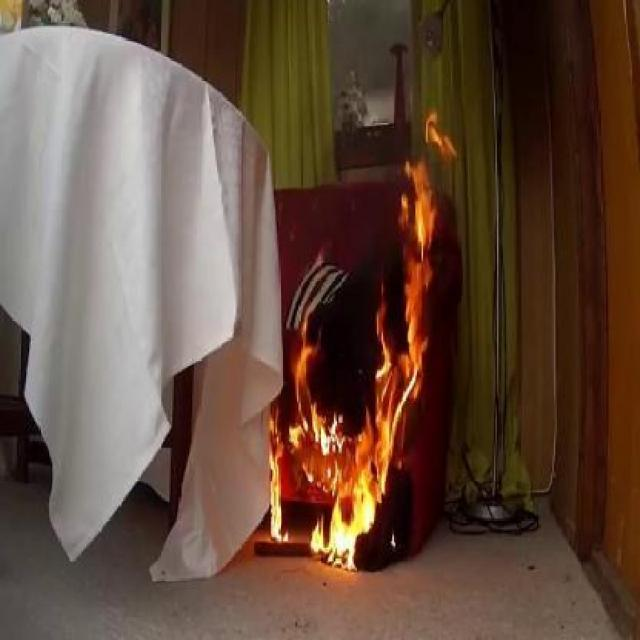fire: (280, 77, 457, 605)
